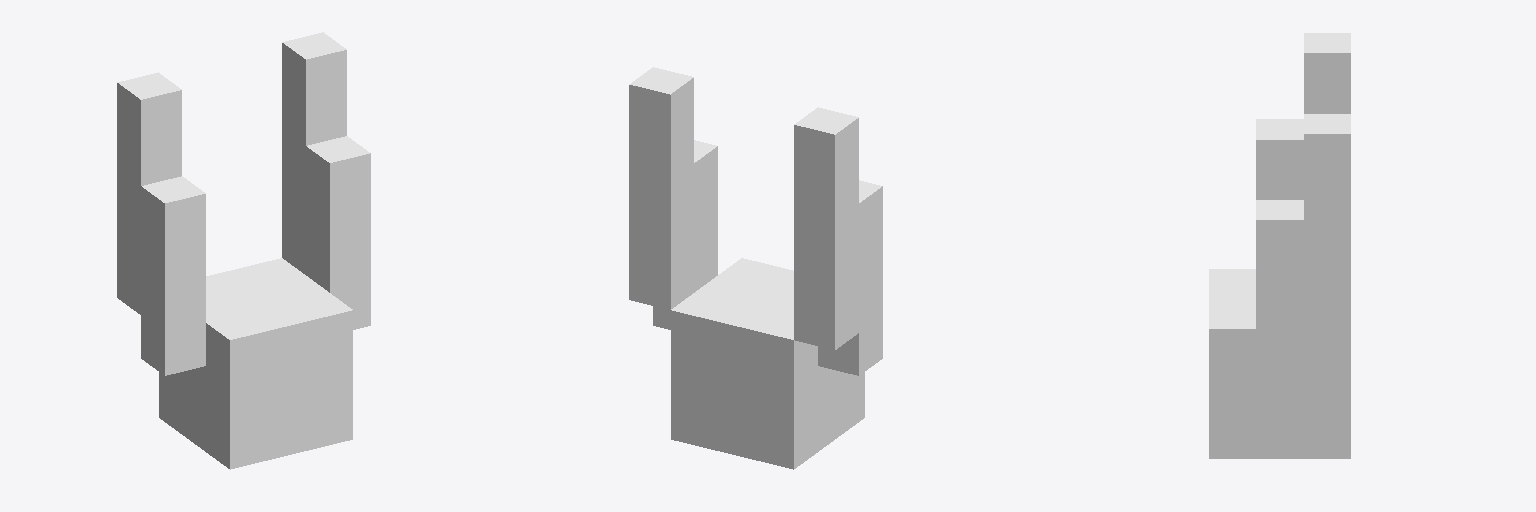
File: bunnyhead.obj
3 renders of one model, left to right at view 1: azimuth 30°, elevation 25°; view 2: azimuth 150°, elevation 25°; view 3: azimuth 270°, elevation 25°, orthographic.
Parts seen in each view (by area): view 1: Bunny; view 2: Bunny; view 3: Bunny.
Part boxes in pixels (x1,y1,x2,y2): Bunny: (117, 32, 370, 469); Bunny: (629, 67, 882, 469); Bunny: (1209, 33, 1350, 458).
Bounding box in the file's own units: 5 × 8 × 3.